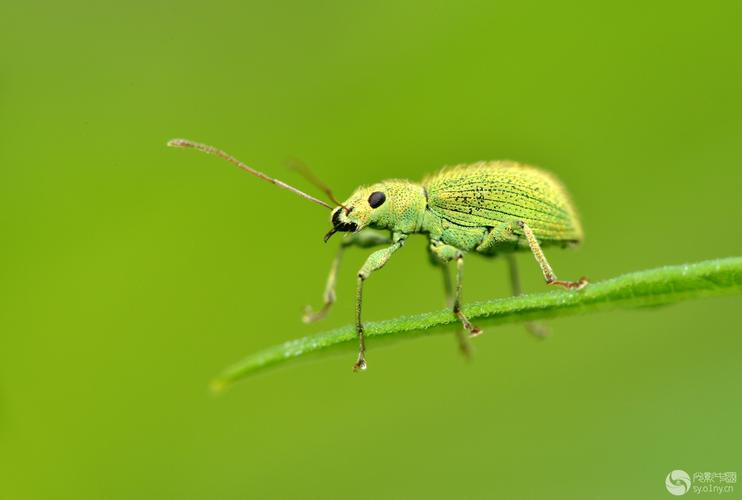Curculionidae: (165, 138, 589, 374)
